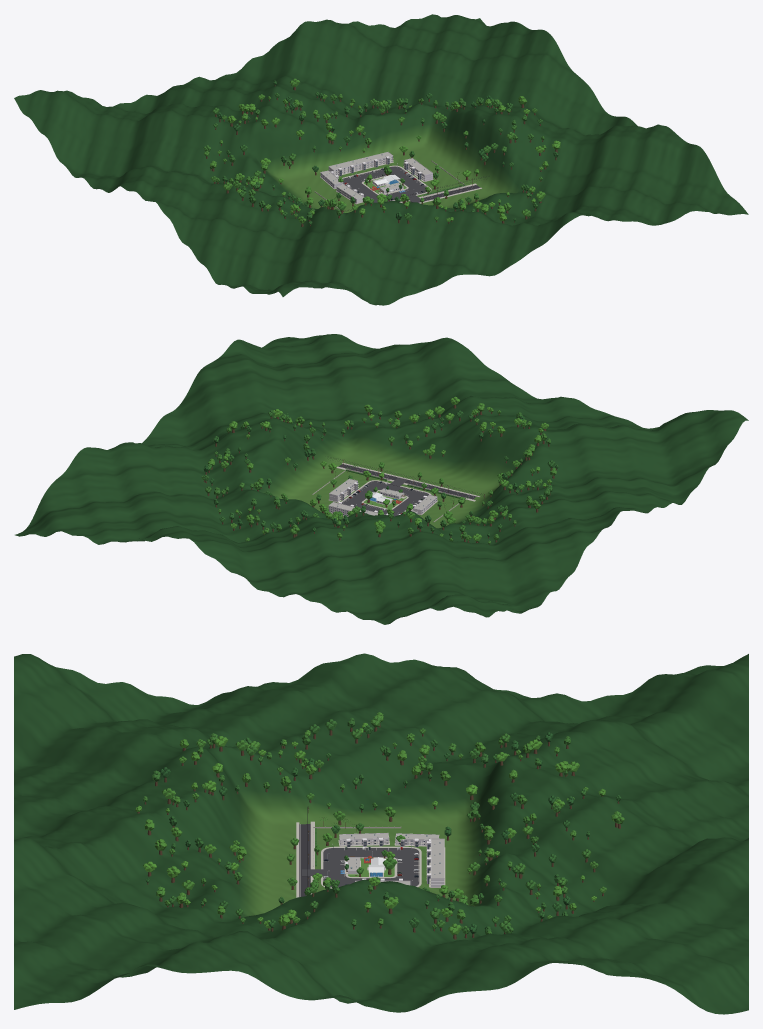
The model's file is complejo-en-herradura.glb.
3 renders of one model, top to bottom at view 1: azimuth 30°, elevation 25°; view 2: azimuth 150°, elevation 25°; view 3: azimuth 270°, elevation 25°, orthographic. The views are drawn at different scales.
Parts seen in each view (by area): view 1: Terreno, Arboles_follaje, Arboles_tronco, Conjunto_asphalt, Conjunto_concrete, Conjunto_roofdeck; view 2: Terreno, Arboles_follaje, Arboles_tronco, Conjunto_asphalt, Conjunto_concrete, Conjunto_roofdeck, Conjunto_asphalt2; view 3: Terreno, Arboles_follaje, Arboles_tronco, Conjunto_asphalt, Conjunto_concrete, Conjunto_roofdeck, Conjunto_asphalt2.
Part boxes in pixels (x1=…): Terreno: x1=14, y1=14, x2=748, y2=305; Arboles_follaje: x1=203, y1=78, x2=560, y2=224; Arboles_tronco: x1=206, y1=85, x2=557, y2=226; Conjunto_asphalt: x1=342, y1=166, x2=426, y2=202; Conjunto_concrete: x1=314, y1=158, x2=481, y2=212; Conjunto_roofdeck: x1=321, y1=152, x2=431, y2=198; Terreno: x1=15, y1=334, x2=748, y2=624; Arboles_follaje: x1=201, y1=396, x2=558, y2=543; Arboles_tronco: x1=204, y1=405, x2=556, y2=544; Conjunto_asphalt: x1=342, y1=478, x2=428, y2=516; Conjunto_concrete: x1=313, y1=463, x2=479, y2=521; Conjunto_roofdeck: x1=329, y1=479, x2=436, y2=515; Conjunto_asphalt2: x1=339, y1=464, x2=476, y2=499; Terreno: x1=14, y1=653, x2=748, y2=1014; Arboles_follaje: x1=135, y1=712, x2=624, y2=934; Arboles_tronco: x1=137, y1=723, x2=620, y2=939; Conjunto_asphalt: x1=302, y1=848, x2=419, y2=887; Conjunto_concrete: x1=296, y1=821, x2=445, y2=897; Conjunto_roofdeck: x1=339, y1=833, x2=444, y2=885; Conjunto_asphalt2: x1=299, y1=824, x2=310, y2=896.
Bounding box in the file's own units: 720 × 79.08 × 720.
